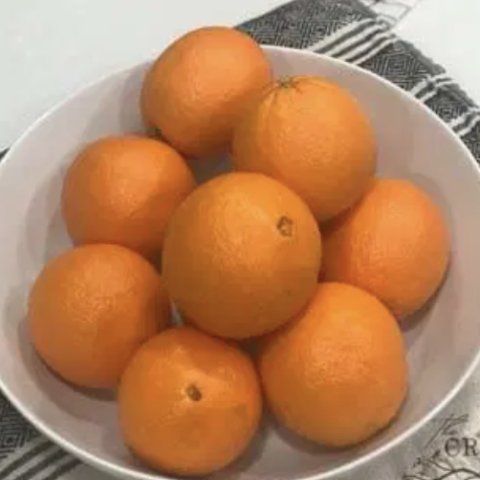orange: (157, 168, 328, 337), (291, 161, 478, 311), (251, 273, 408, 449), (109, 309, 262, 479), (4, 238, 175, 387), (135, 19, 282, 151)
